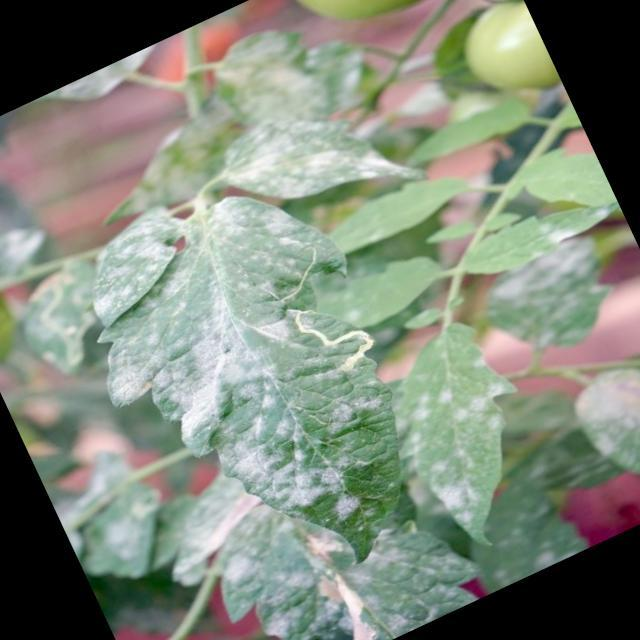Tomato target spot leaf: (249, 230, 386, 396)
